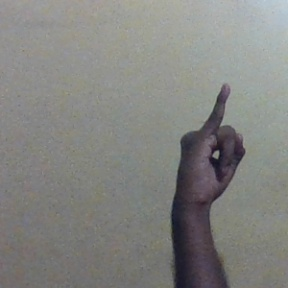I: (177, 81, 249, 206)
